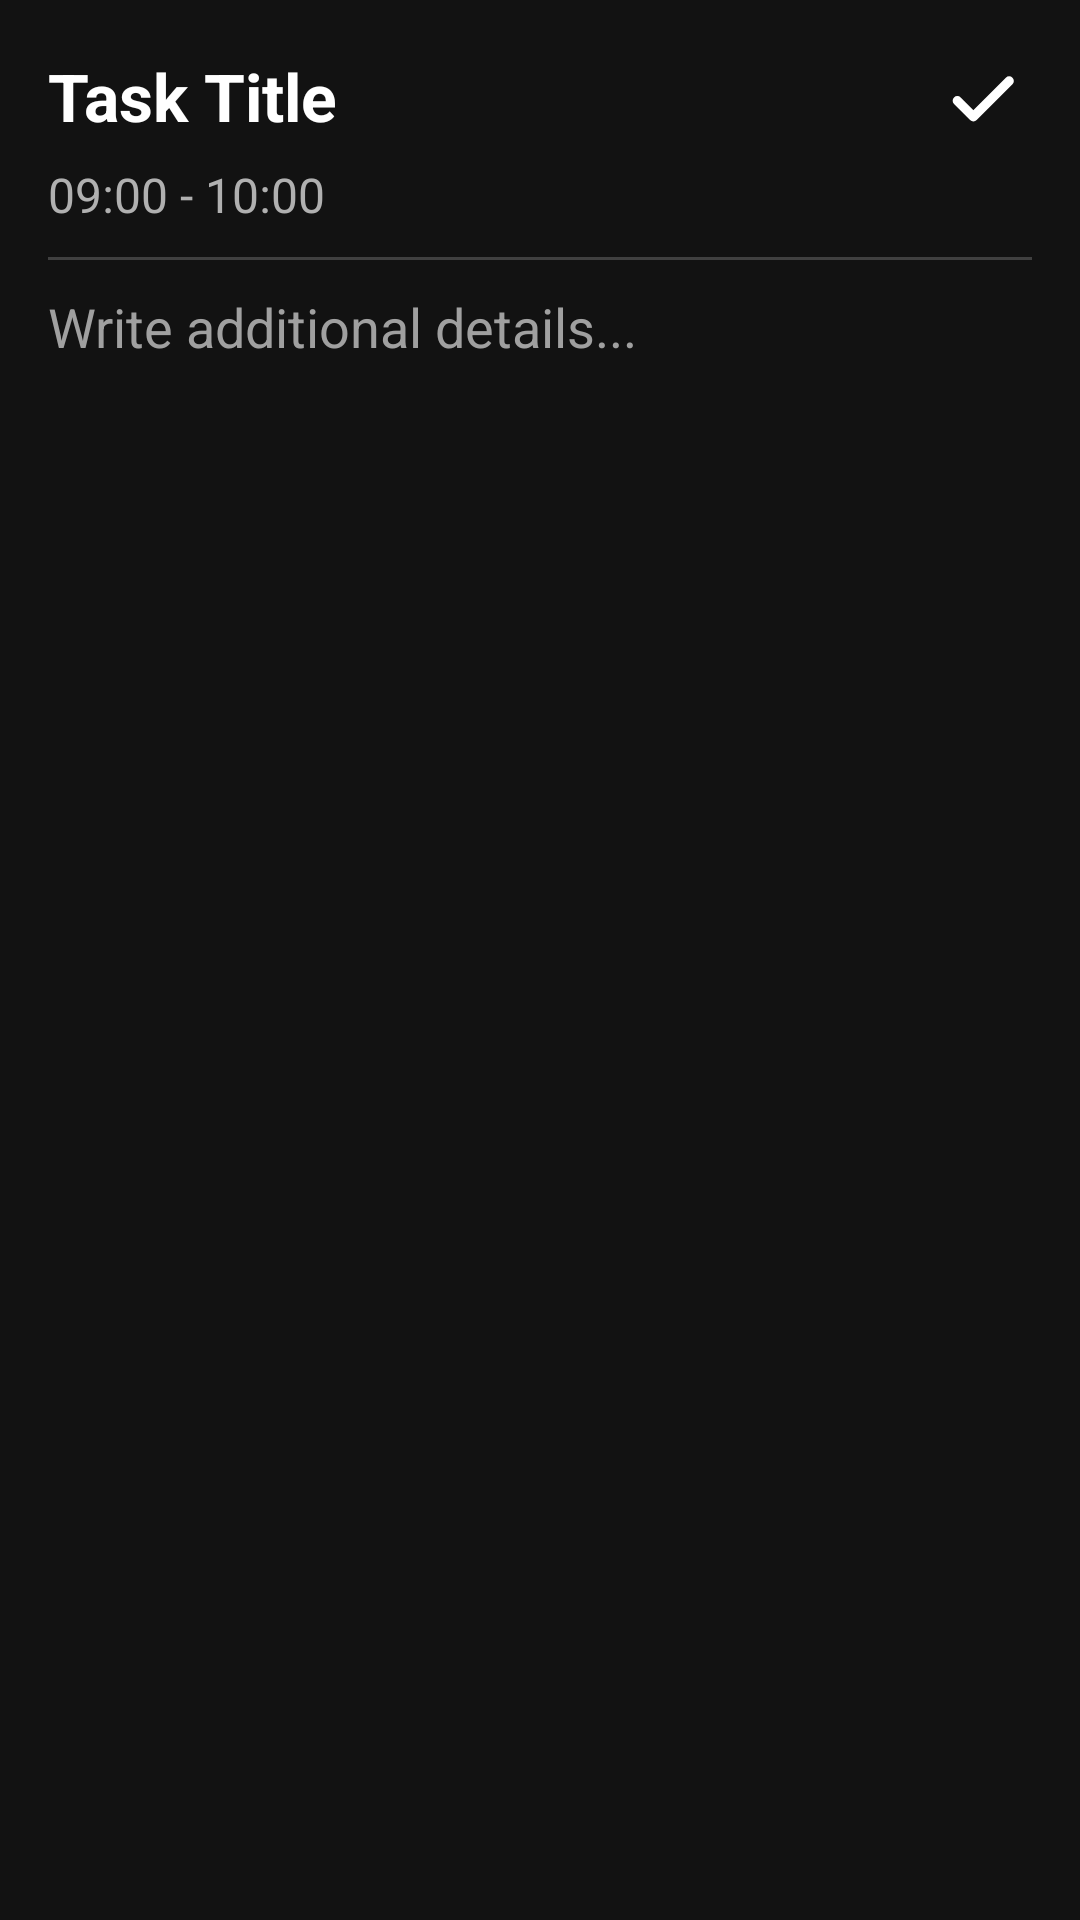

Named icons in this screenshot (1080*1920) and their bounding boxes, [left=x1, top=y1, right=x2, bottom=y2]:
Save Task Details: [left=952, top=76, right=1014, bottom=122]
